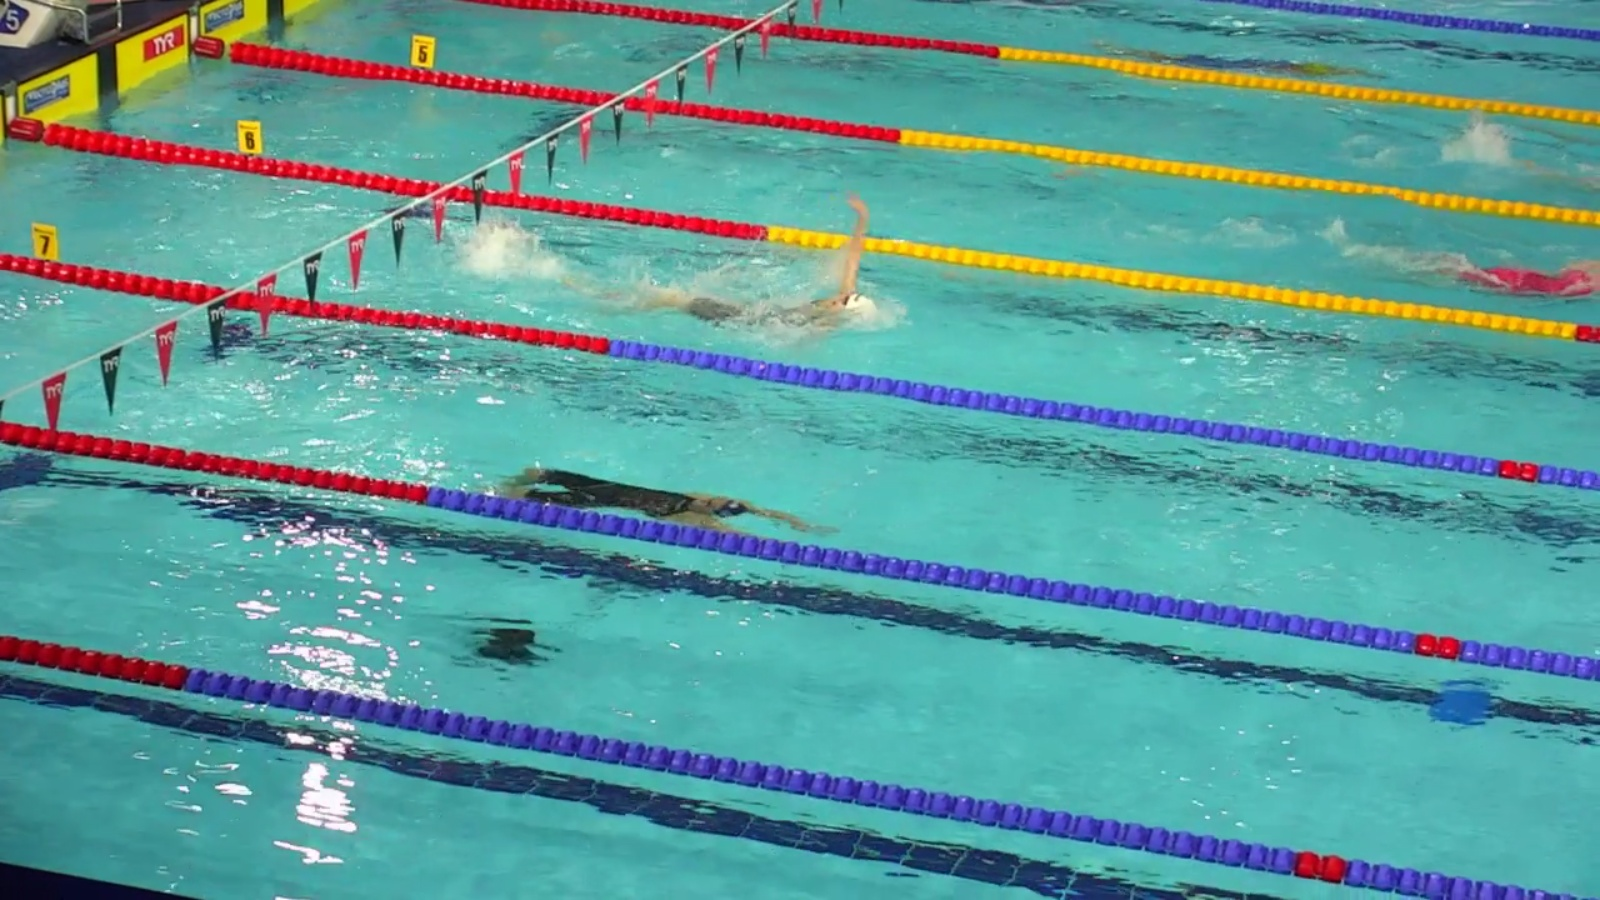swimmerw: (593, 193, 882, 327), (491, 463, 841, 552), (1410, 238, 1600, 298), (1511, 152, 1600, 182)
